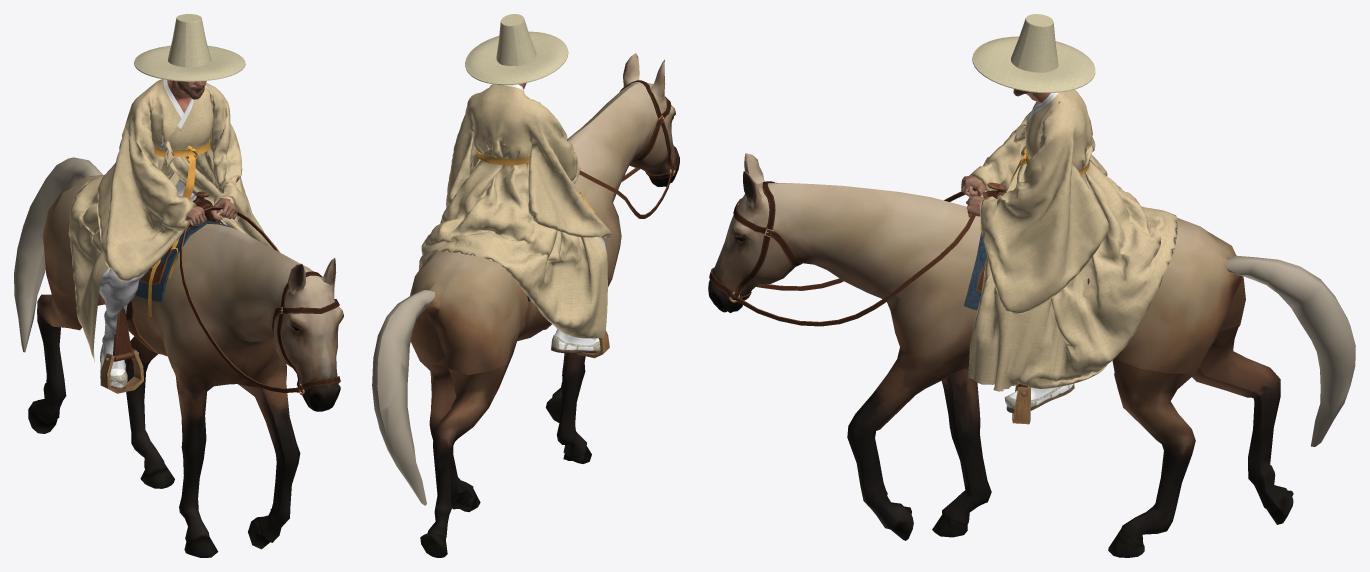
Rendered from rider.glb.
3 views of the same model, side by side, from view 1: azimuth 30°, elevation 25°; view 2: azimuth 150°, elevation 25°; view 3: azimuth 270°, elevation 25° (orthographic). The views are drawn at different scales.
Parts seen in each view (by area): view 1: MPYB_Horse_01_1_Horse_4_Palomino_0, MPYB_Horse_01_1_MPYB_0, MPYB_Horse_01_1_Saddle_0, MPYB_Horse_01_1_Horse_Mane_D_Gray_Low_0, MPYB_Horse_01_1_zipsaprop_0, MPYB_Horse_01_1_remesh_7_combined_Remeshed_LOD1_Pbr_1_0; view 2: MPYB_Horse_01_1_Horse_4_Palomino_0, MPYB_Horse_01_1_MPYB_0, MPYB_Horse_01_1_Horse_Mane_D_Gray_Low_0, MPYB_Horse_01_1_zipsaprop_0, MPYB_Horse_01_1_Saddle_0, MPYB_Horse_01_1_remesh_7_combined_Remeshed_LOD1_Pbr_1_0; view 3: MPYB_Horse_01_1_Horse_4_Palomino_0, MPYB_Horse_01_1_MPYB_0, MPYB_Horse_01_1_Horse_Mane_D_Gray_Low_0, MPYB_Horse_01_1_zipsaprop_0, MPYB_Horse_01_1_Saddle_0, MPYB_Horse_01_1_remesh_7_combined_Remeshed_LOD1_Pbr_1_0.
Part boxes in pixels (x1,y1,x2,y2): MPYB_Horse_01_1_Horse_4_Palomino_0: (28, 174, 343, 557); MPYB_Horse_01_1_MPYB_0: (68, 79, 273, 361); MPYB_Horse_01_1_Saddle_0: (100, 191, 340, 394); MPYB_Horse_01_1_Horse_Mane_D_Gray_Low_0: (14, 157, 102, 352); MPYB_Horse_01_1_zipsaprop_0: (134, 14, 245, 81); MPYB_Horse_01_1_remesh_7_combined_Remeshed_LOD1_Pbr_1_0: (100, 80, 238, 390); MPYB_Horse_01_1_Horse_4_Palomino_0: (410, 53, 679, 557); MPYB_Horse_01_1_MPYB_0: (418, 84, 612, 338); MPYB_Horse_01_1_Horse_Mane_D_Gray_Low_0: (372, 290, 434, 505); MPYB_Horse_01_1_zipsaprop_0: (465, 14, 568, 85); MPYB_Horse_01_1_Saddle_0: (527, 80, 679, 358); MPYB_Horse_01_1_remesh_7_combined_Remeshed_LOD1_Pbr_1_0: (518, 83, 600, 353); MPYB_Horse_01_1_Horse_4_Palomino_0: (708, 153, 1293, 557); MPYB_Horse_01_1_MPYB_0: (968, 89, 1177, 391); MPYB_Horse_01_1_Horse_Mane_D_Gray_Low_0: (1224, 255, 1355, 446); MPYB_Horse_01_1_zipsaprop_0: (972, 14, 1095, 92); MPYB_Horse_01_1_Saddle_0: (709, 181, 1089, 424); MPYB_Horse_01_1_remesh_7_combined_Remeshed_LOD1_Pbr_1_0: (961, 89, 1074, 413).
Bounding box in the file's own units: 0.8667 × 2.42 × 2.69.
Materials: 7 (6 with a texture image).
